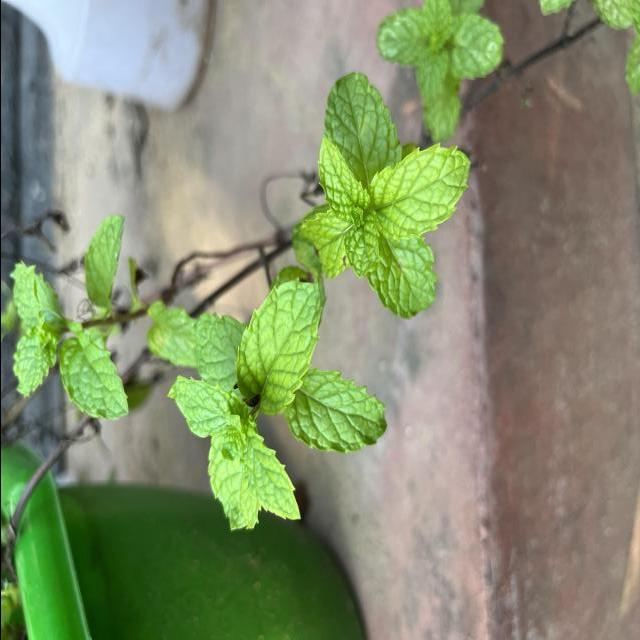Mentha spicata: (233, 276, 323, 416), (366, 141, 471, 241), (282, 366, 387, 454), (237, 422, 302, 522), (316, 136, 368, 224)
